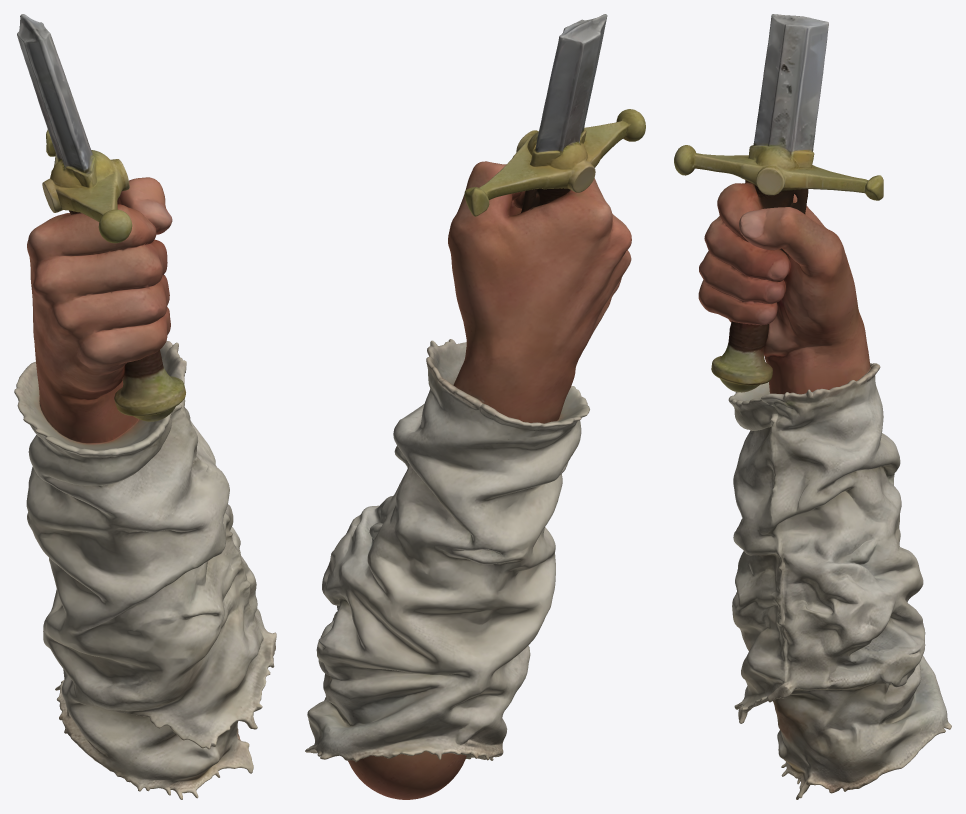
3 views of the same model, side by side, from view 1: azimuth 30°, elevation 25°; view 2: azimuth 150°, elevation 25°; view 3: azimuth 270°, elevation 25° (orthographic). The views are drawn at different scales.
Visible parts, largest first — view 1: tripo_node_5b5dade2-5be5-406b-8d16-e25eb15e6031; view 2: tripo_node_5b5dade2-5be5-406b-8d16-e25eb15e6031; view 3: tripo_node_5b5dade2-5be5-406b-8d16-e25eb15e6031.
Boxes of the visible parts, <box> form: tripo_node_5b5dade2-5be5-406b-8d16-e25eb15e6031: <box>14,14,276,799</box>; tripo_node_5b5dade2-5be5-406b-8d16-e25eb15e6031: <box>305,14,645,799</box>; tripo_node_5b5dade2-5be5-406b-8d16-e25eb15e6031: <box>674,14,951,799</box>.
Size of the model in its own units: 0.3432 by 1 by 0.3613.
1 material, 1 textured.
